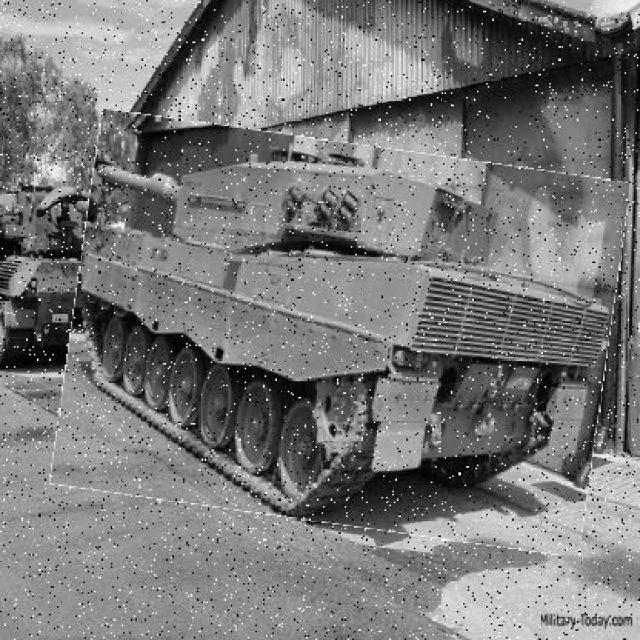Tank: (63, 129, 620, 541)
